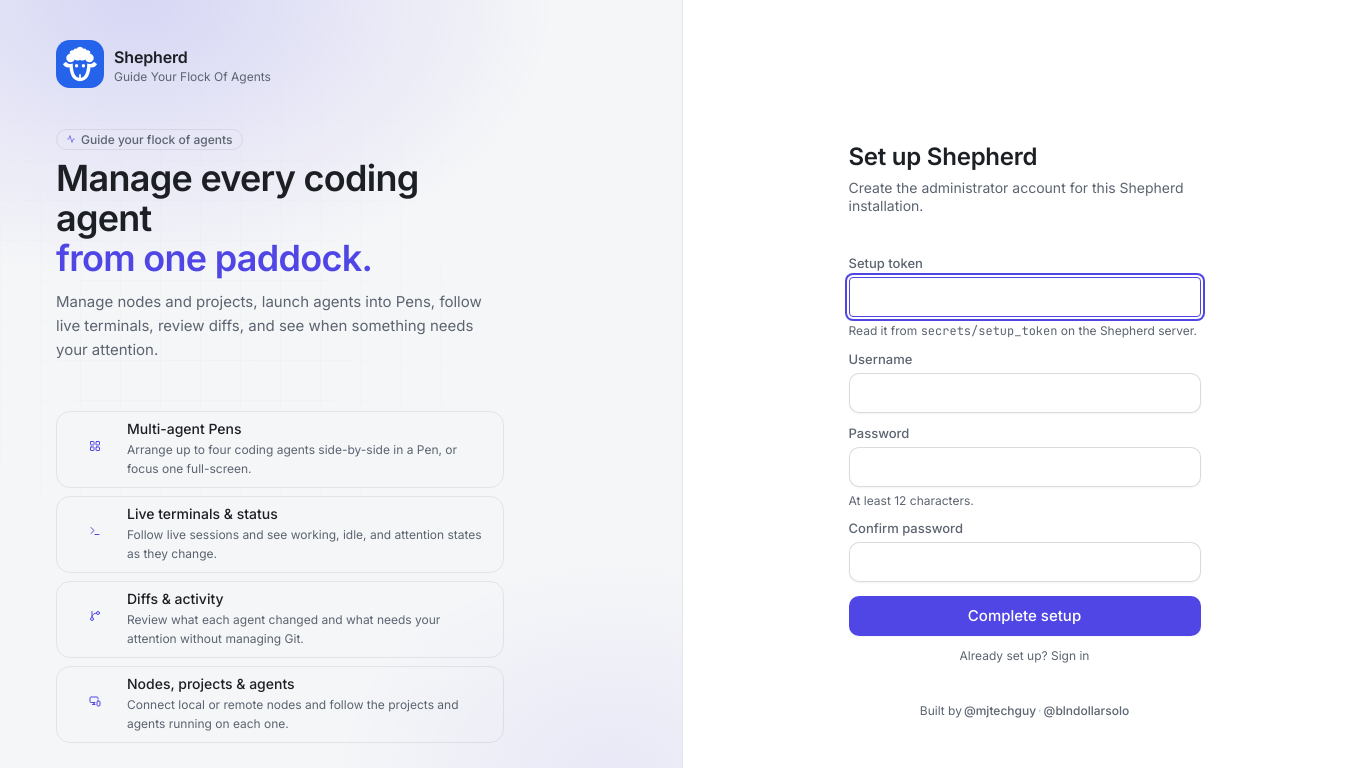
AuthScreen first-run confirmation › blocks production setup when the bootstrap token is empty
Type "admin" into the field labelled "Username" at (1024, 393), box [848, 373, 1200, 413]
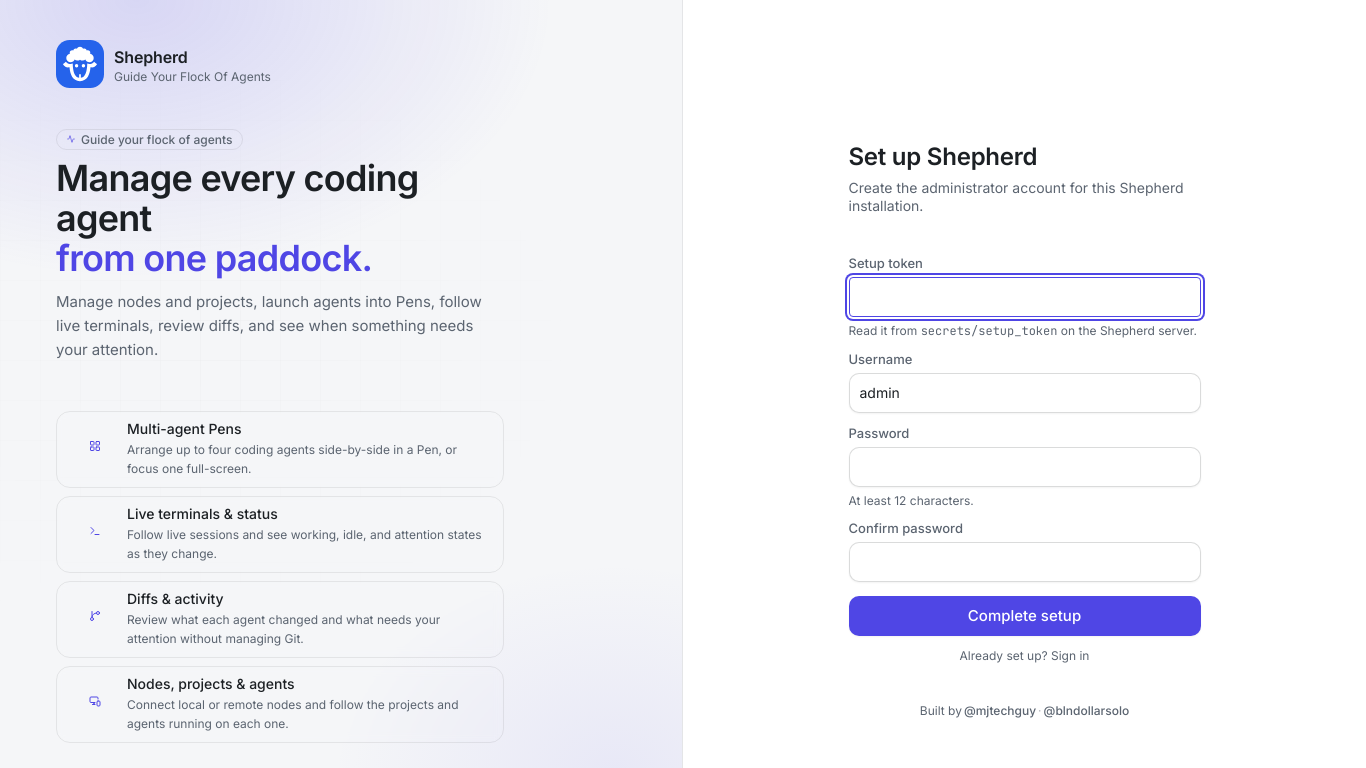
Type "password12345" into the password field labelled "Password" at (1024, 467), box [848, 447, 1200, 487]
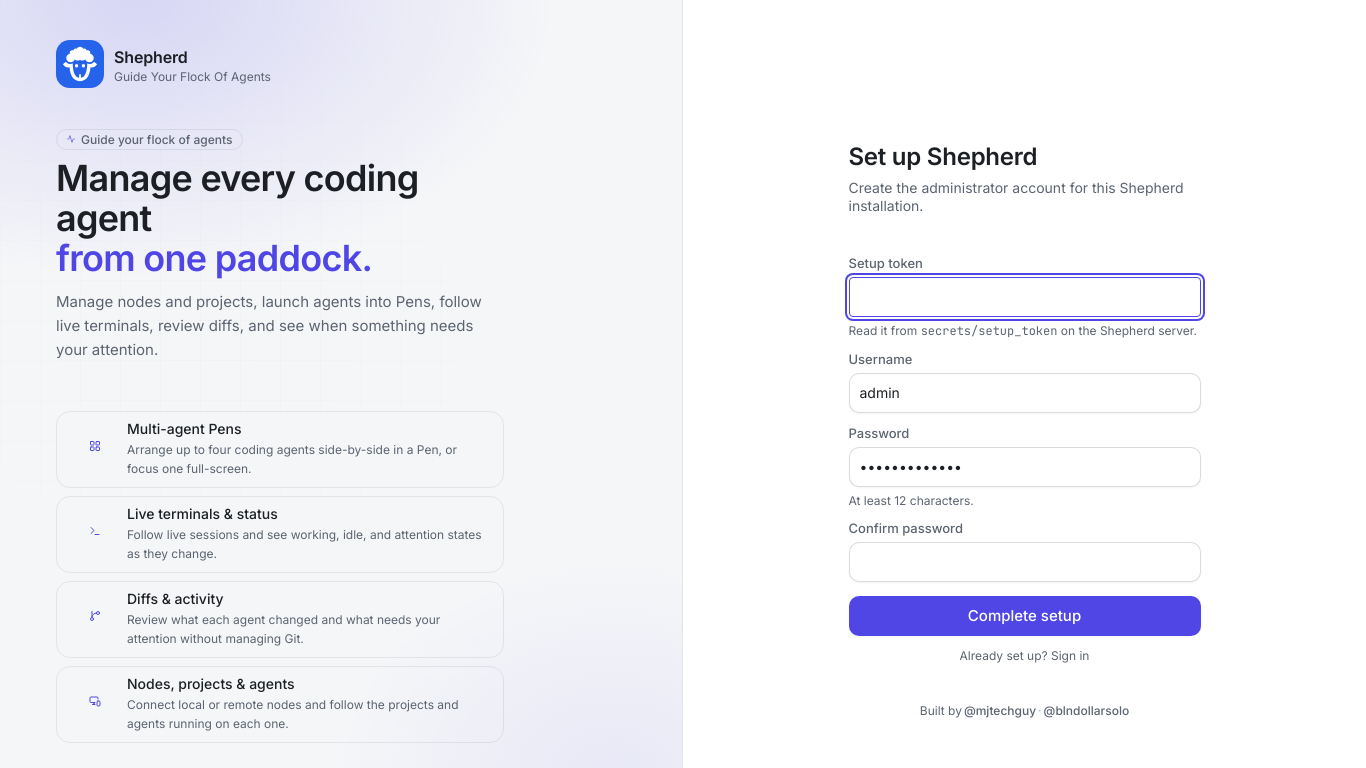
Type "password12345" into the password field labelled "Confirm password" at (1024, 562), box [848, 542, 1200, 582]
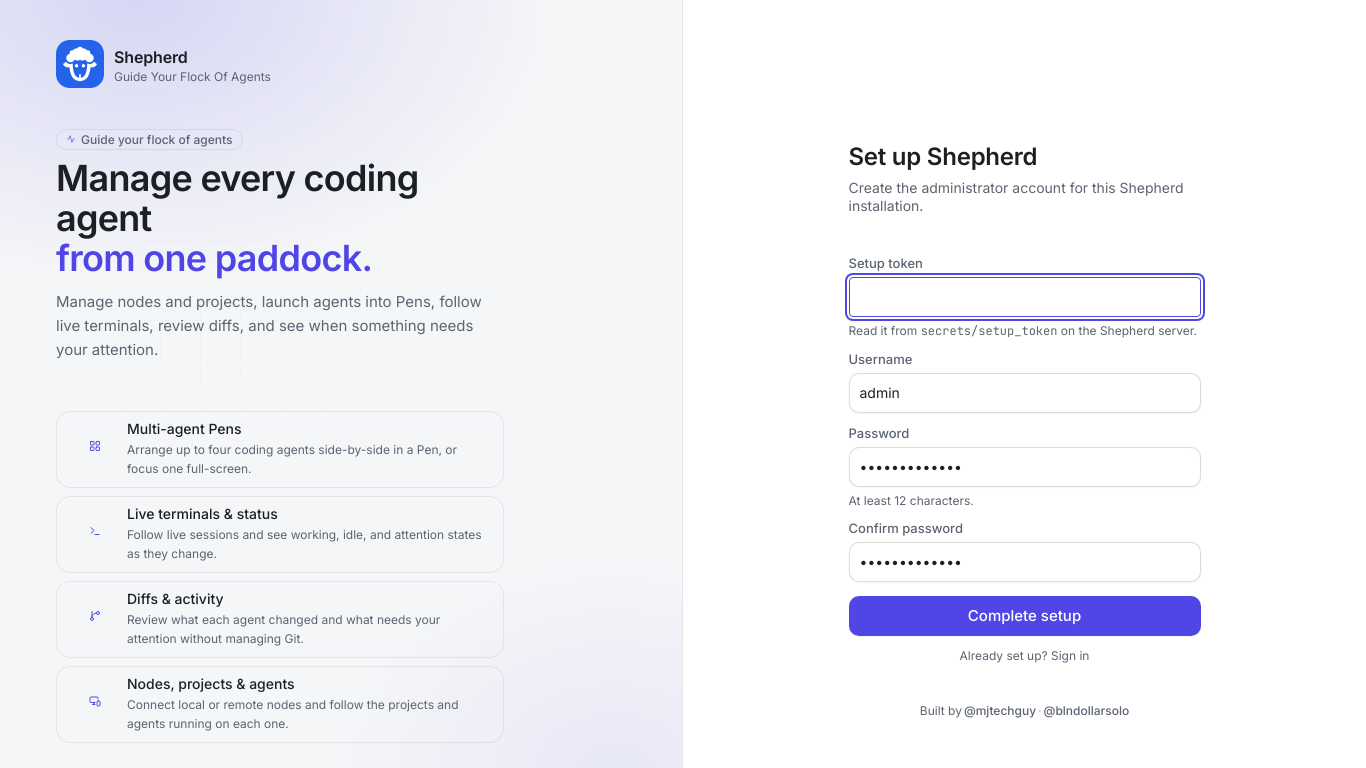
Click the button "Complete setup" at (1024, 616), box [848, 596, 1200, 636]
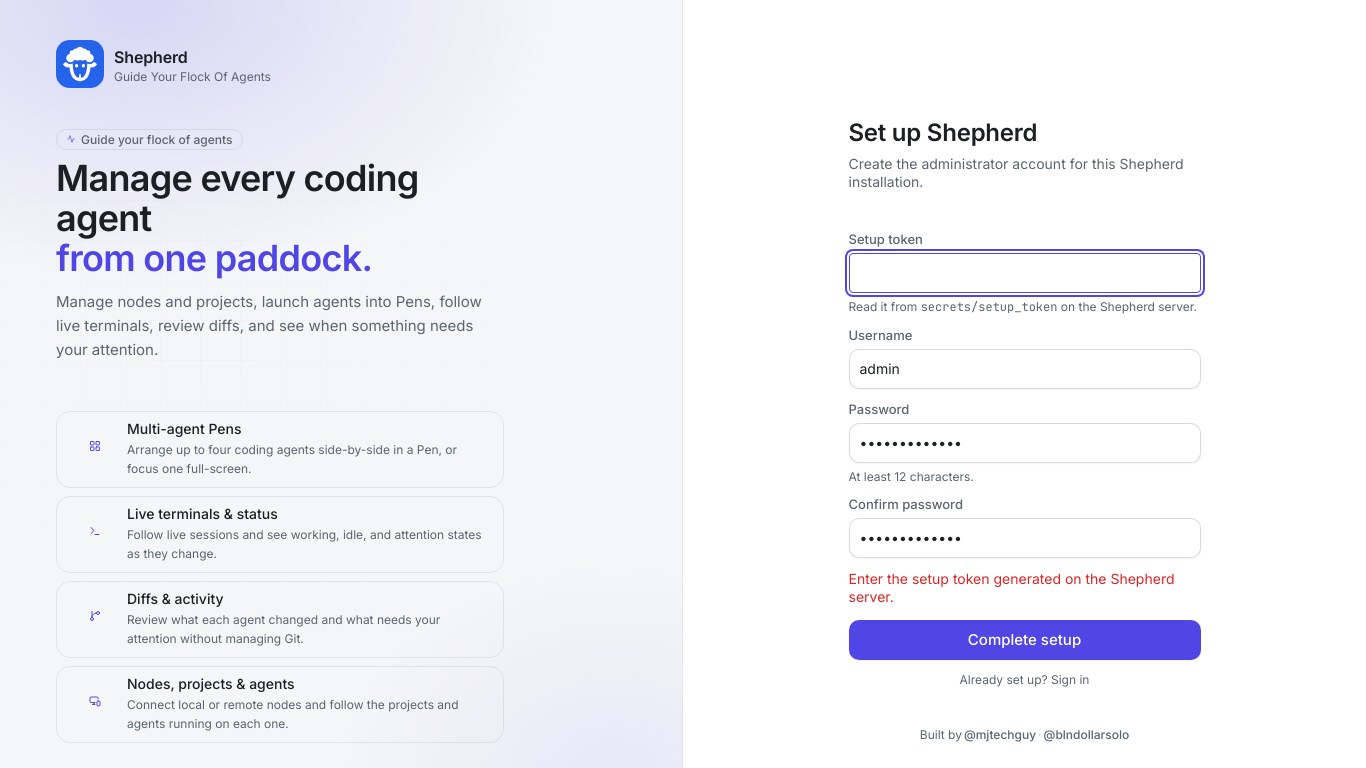
Now the message shows "setup token", box [848, 570, 1174, 605]
